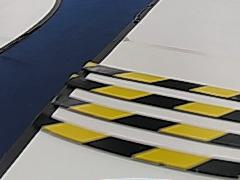bump: (44, 61, 239, 175)
